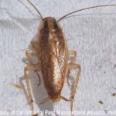cockroach: (32, 15, 76, 102)
